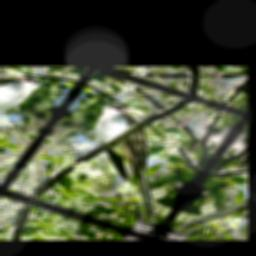Cuckoo: (33, 97, 219, 223)
